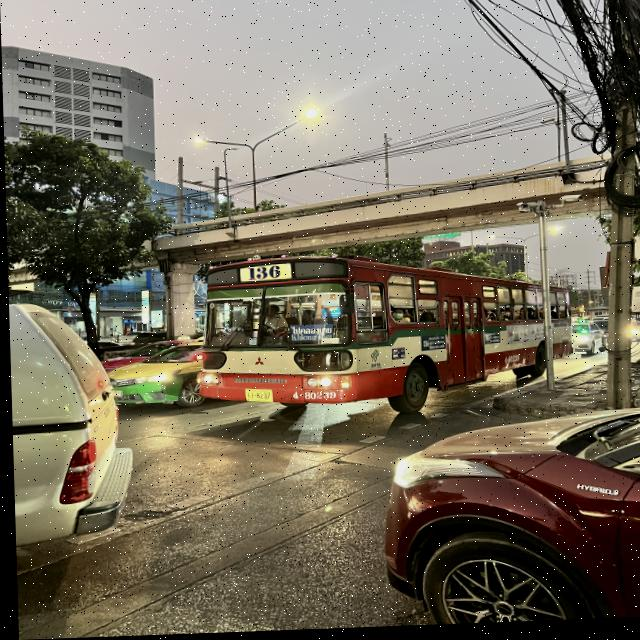BMTA-bus: (190, 251, 549, 428)
Bus-Line-Number: (238, 266, 289, 283)
Destination-Sign-Normal: (287, 326, 331, 345)
